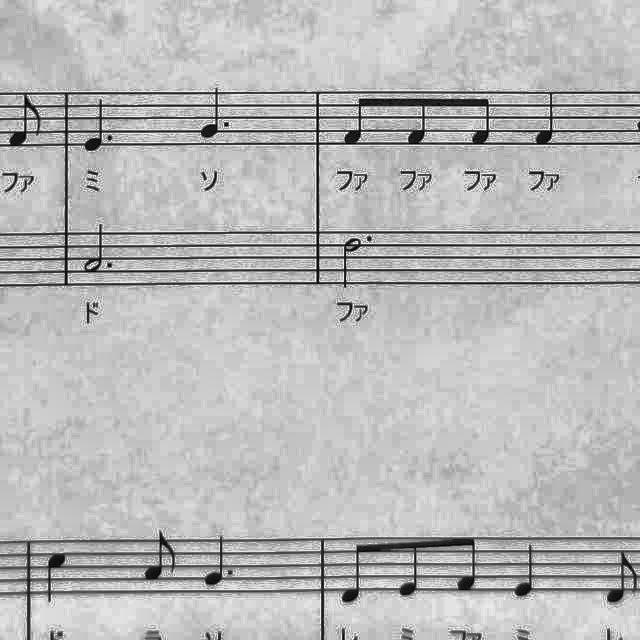Eighth-note: (336, 537, 376, 611), (5, 88, 47, 152), (600, 546, 640, 610), (138, 529, 182, 587), (452, 530, 488, 598), (395, 536, 429, 602), (466, 91, 502, 152), (532, 92, 568, 152), (339, 88, 373, 148), (404, 92, 436, 152)
Half-dot: (336, 230, 378, 294), (78, 217, 119, 275)
Quarter-dot: (198, 534, 242, 592), (78, 98, 118, 160), (196, 84, 237, 144)
Quarter-note: (38, 548, 74, 608), (509, 544, 543, 602)
